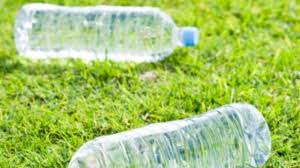plastic_bottle: (61, 103, 273, 168), (13, 4, 201, 65)
